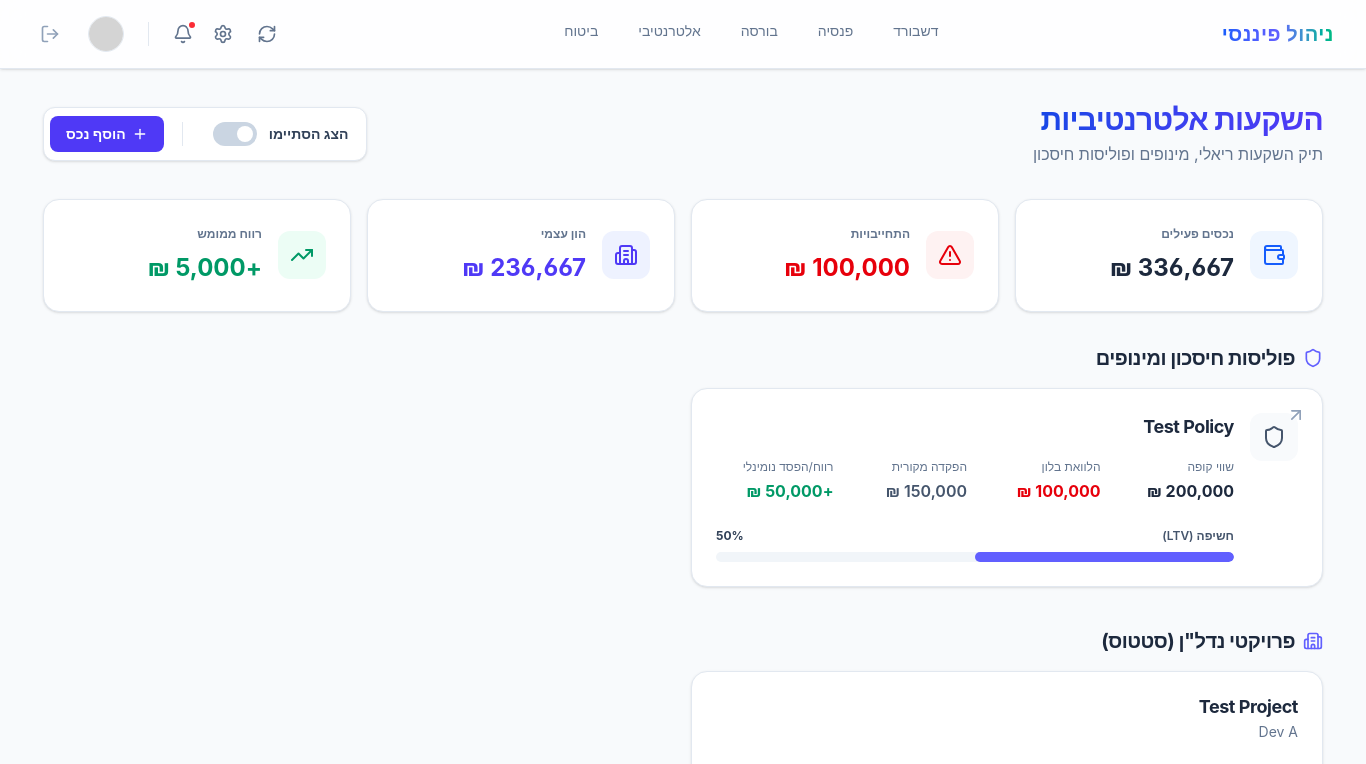
Test case: AltInvestmentsDashboard Component › toggles exited projects view
Expected: the heading "Test Project" is shown, [1199,696,1298,717]
Click the text "הצג הסתיימו": (309,134) [269,124,348,144]
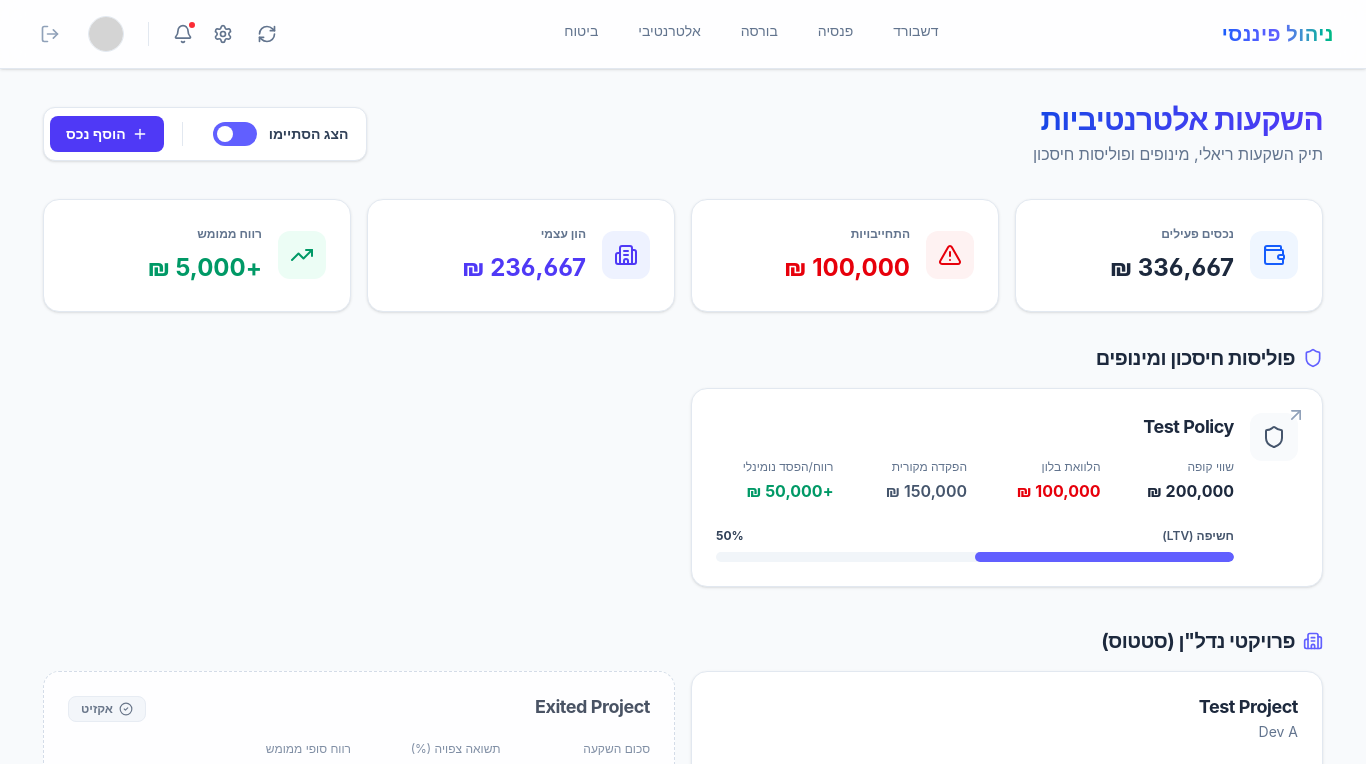
Expected: the heading "Exited Project" is shown, [535,696,650,717]
